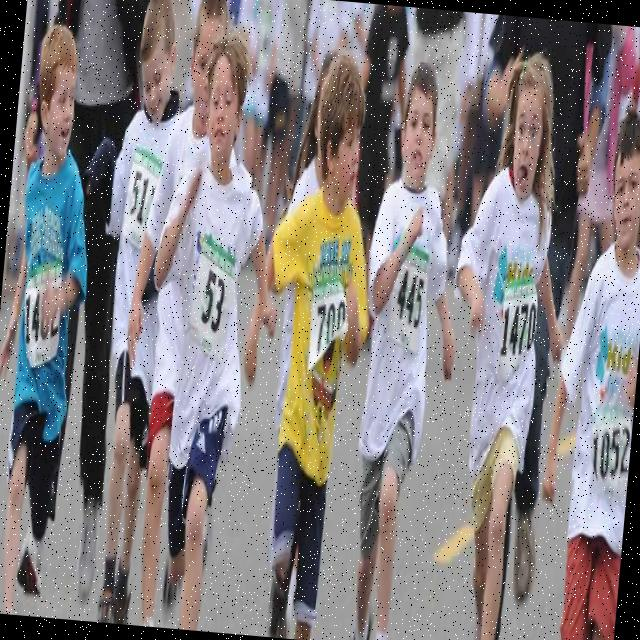Person: (123, 22, 290, 634), (421, 44, 587, 640), (232, 50, 390, 640), (47, 0, 189, 625), (336, 56, 479, 640), (101, 0, 230, 628), (0, 21, 106, 618), (525, 107, 640, 640)
